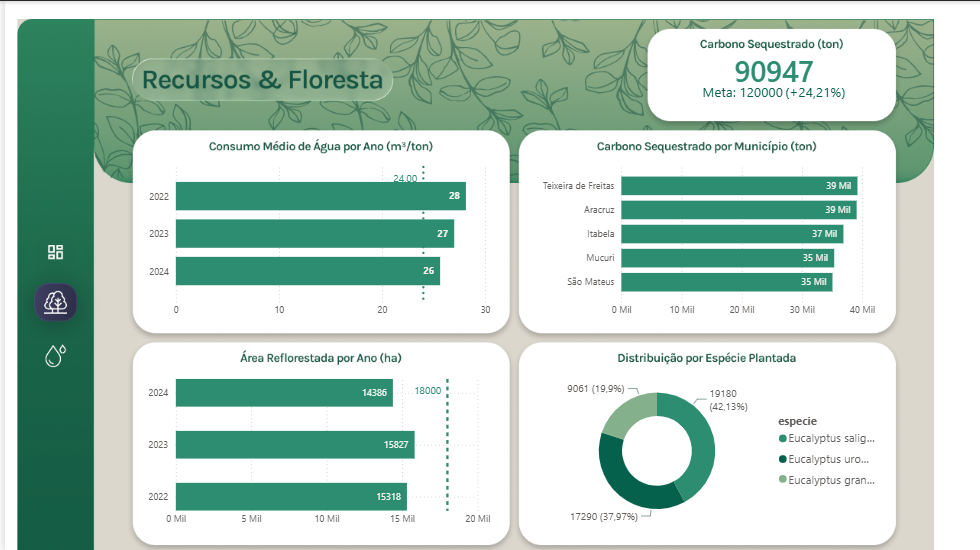

This screenshot's page, from the dashboard's own definition file:
{"tool":"powerbi","page":{"name":"Recurso e Floresta","canvas":[1280,720],"ordinal":1},"visuals":[{"type":"clusteredBarChart","fields":{"Category":["DimData.data.Variation.Hierarquia de datas.Ano"],"Y":["Medidas DAX.Media Agua m3"]},"box":[180,204.3,460,218.6],"z":0},{"type":"clusteredBarChart","fields":{"Category":["reflorestamento.municipio"],"Y":["Medidas DAX.Carbono Sequestrado Total"]},"box":[690,204.3,454.3,218.6],"z":1000},{"type":"donutChart","fields":{"Category":["reflorestamento.especie"],"Y":["Sum(reflorestamento.area_plantada_ha)"]},"box":[690,481.4,464.3,214.3],"z":2000},{"type":"clusteredBarChart","fields":{"Y":["Sum(reflorestamento.area_plantada_ha)"],"Category":["reflorestamento.ano_plantio"]},"box":[180,481.4,460,214.3],"z":3000},{"type":"kpi","fields":{"Indicator":["Medidas DAX.Carbono Sequestrado Total"],"Goal":["Metas.Meta Carbono sequestrado 2024"],"TrendLine":["reflorestamento.ano_plantio"]},"box":[858.6,68.6,295.7,68.6],"z":4000}]}

Visuals, with their boxes on the page's 1280x720 design canvas (x1, y1, x2, y2). These are canvas units, not pixel positions in the 980x550 screenshot, which may show the page scaled, cropped or inside an application window:
clusteredBarChart - DimData.data.Variation.Hierarquia de datas.Ano x Medidas DAX.Media Agua m3: BBox(180, 204, 640, 423)
clusteredBarChart - reflorestamento.municipio x Medidas DAX.Carbono Sequestrado Total: BBox(690, 204, 1144, 423)
donutChart - reflorestamento.especie x Sum(reflorestamento.area_plantada_ha): BBox(690, 481, 1154, 696)
clusteredBarChart - Sum(reflorestamento.area_plantada_ha) x reflorestamento.ano_plantio: BBox(180, 481, 640, 696)
kpi - Medidas DAX.Carbono Sequestrado Total x Metas.Meta Carbono sequestrado 2024: BBox(859, 69, 1154, 137)
